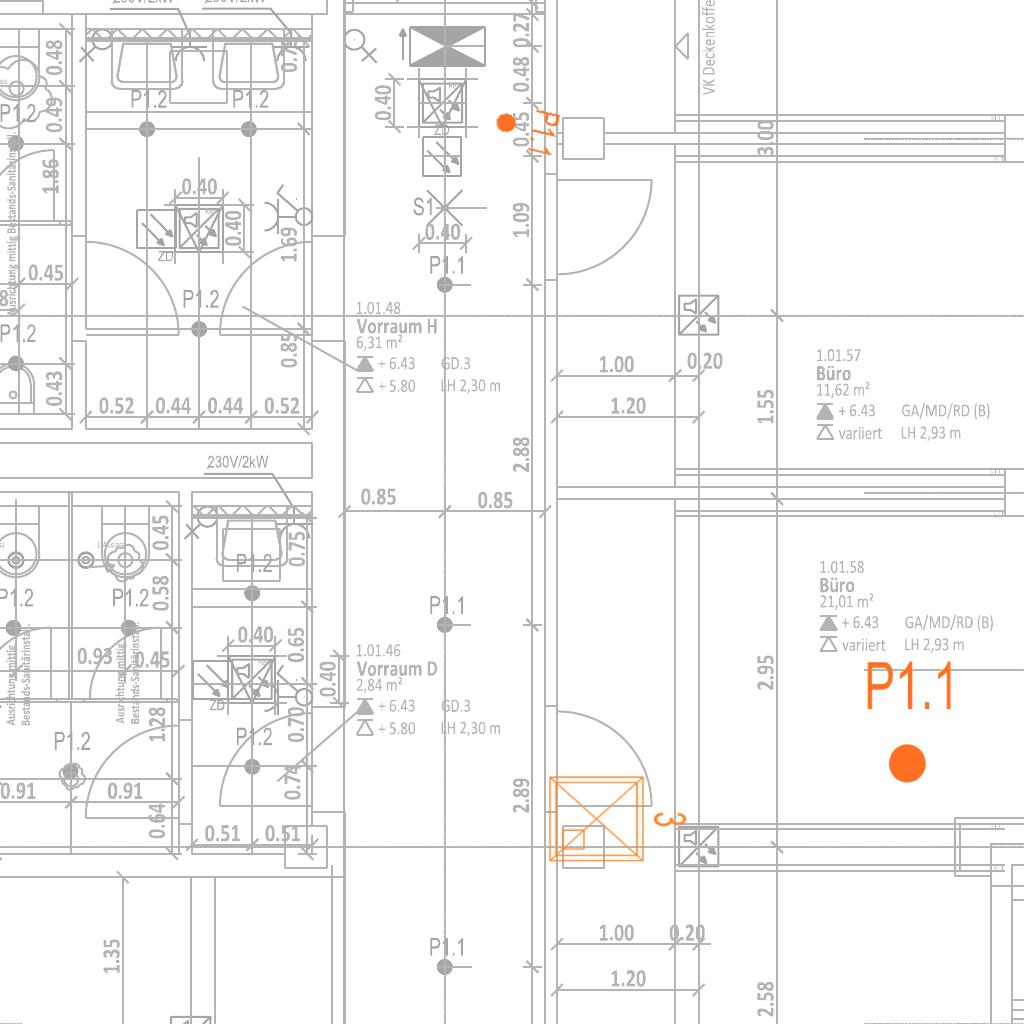Downlight_LED_Einbauleuchten_Flur: (864, 658, 957, 786), (489, 99, 563, 159)
Einbaudownlights_LED_Konferenzraeume: (542, 765, 692, 869)
